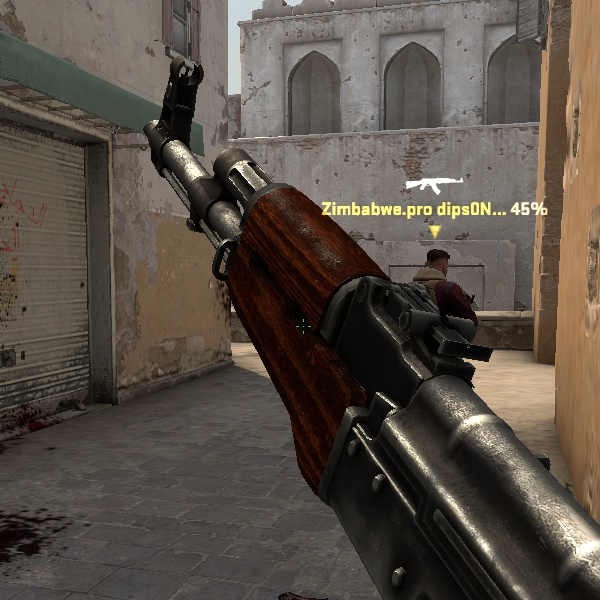t_head: (423, 247, 453, 275)
